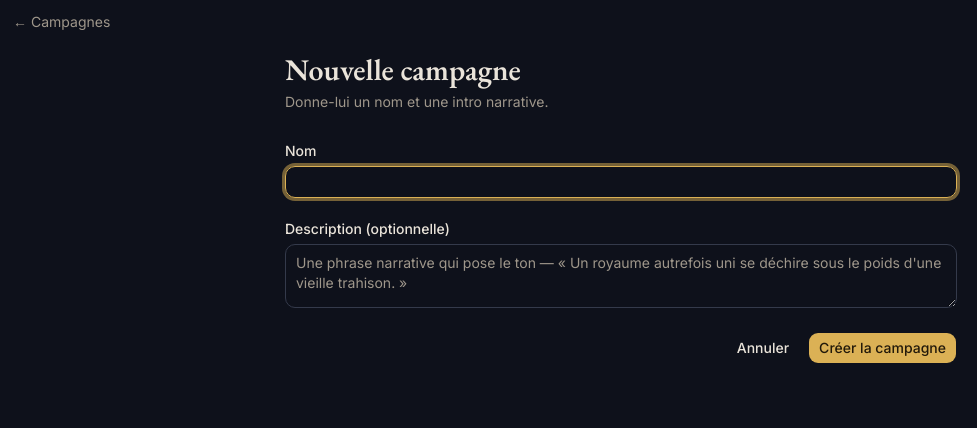
/jdr/campaigns/new page › surfaces a generic error message on 422
Type "Royaumes Brisés" into the field labelled "Nom" at coordinates (621, 182), box [285,166,957,198]
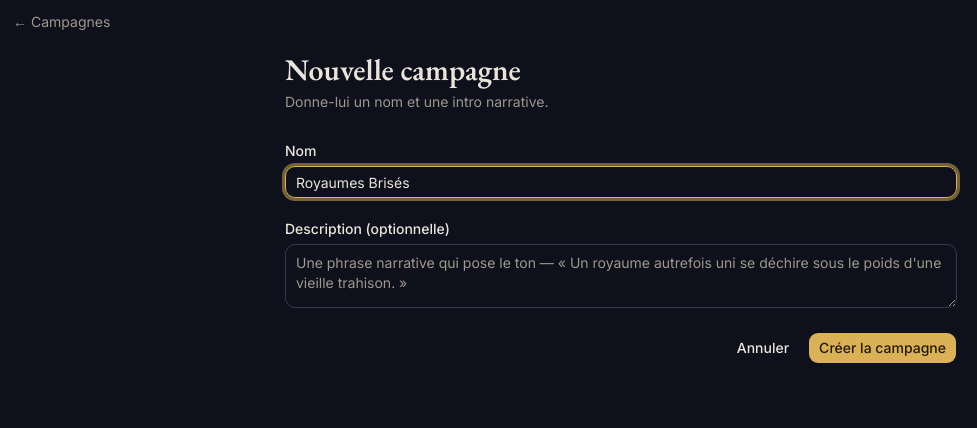
Click the button "Créer la campagne" at coordinates (883, 348), box [808,332,957,364]
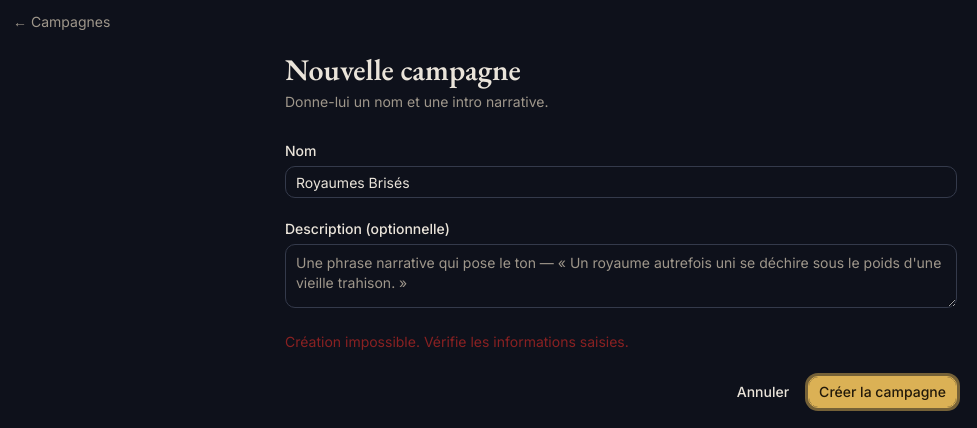
Now the text "Création impossible. Vérifie les informations saisies." is shown, box [285,333,629,350]
